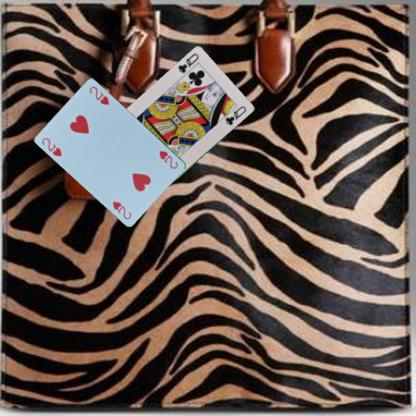2h: (39, 135, 63, 158), (156, 148, 180, 170)
Qc: (175, 51, 200, 74)
